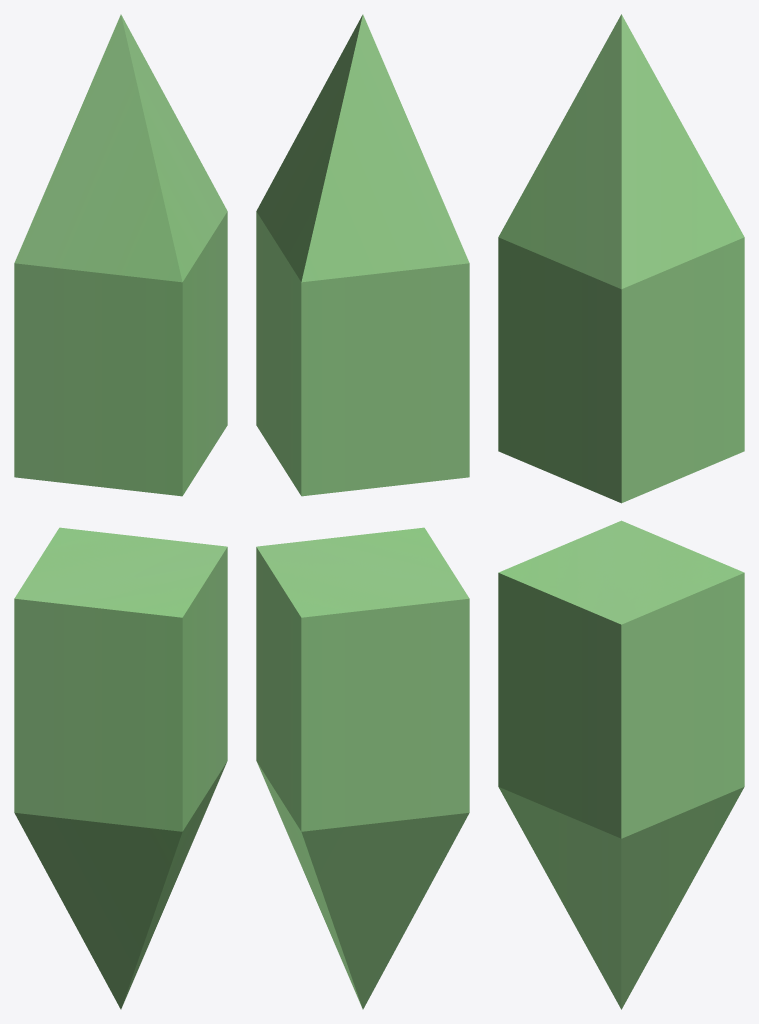
The model's file is powercrystal.fbx.
The picture shows the model from 3 angles, left to right: view 1: azimuth 30°, elevation 25°; view 2: azimuth 150°, elevation 25°; view 3: azimuth 270°, elevation 25°; orthographic projection.
Parts seen in each view (by area): view 1: Cone; view 2: Cone; view 3: Cone.
Part boxes in pixels (x1=…): Cone: x1=14, y1=14, x2=227, y2=1009; Cone: x1=256, y1=14, x2=469, y2=1009; Cone: x1=498, y1=14, x2=744, y2=1009.
Bounding box in the file's own units: 200 × 892 × 200.
